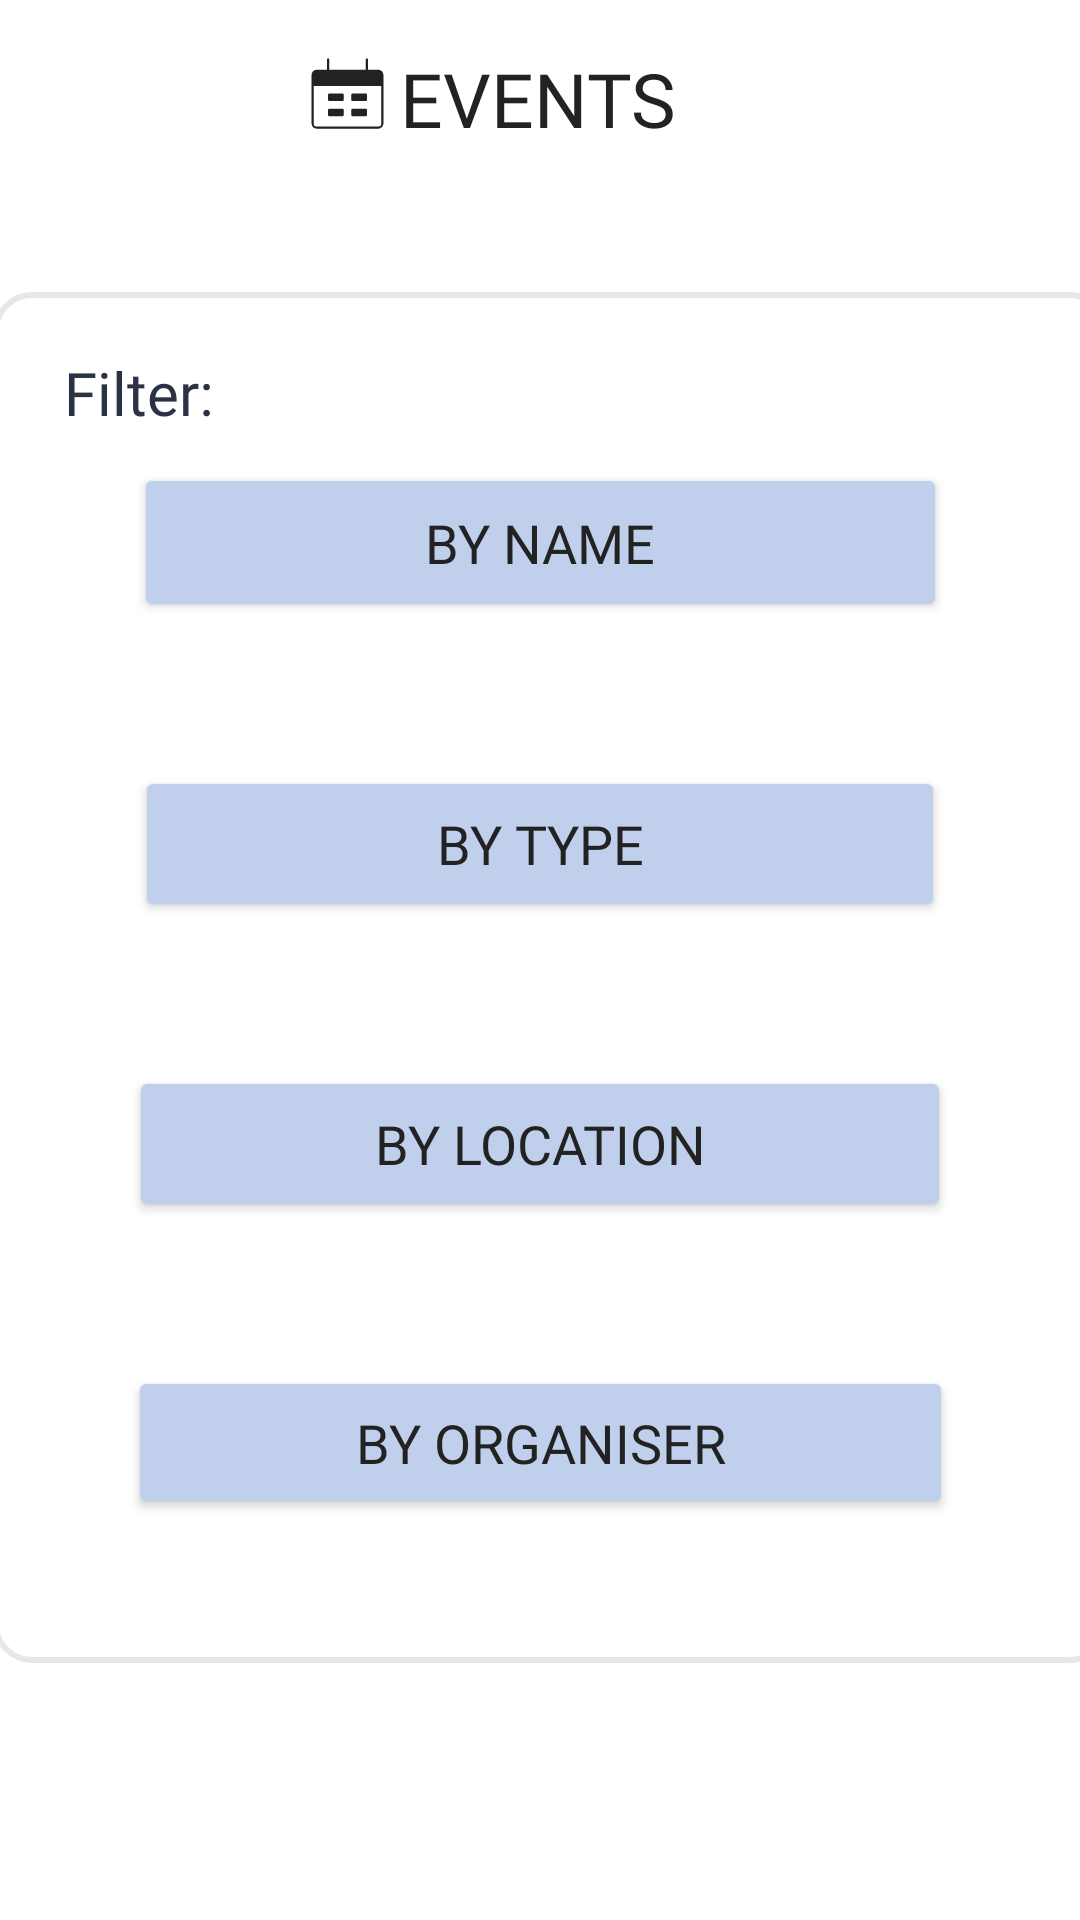

Icons on this 1080px x 1920px Android screen, each with its box as bbox=[x1, y1, x2, y2]:
date range: bbox=[311, 58, 384, 129]
